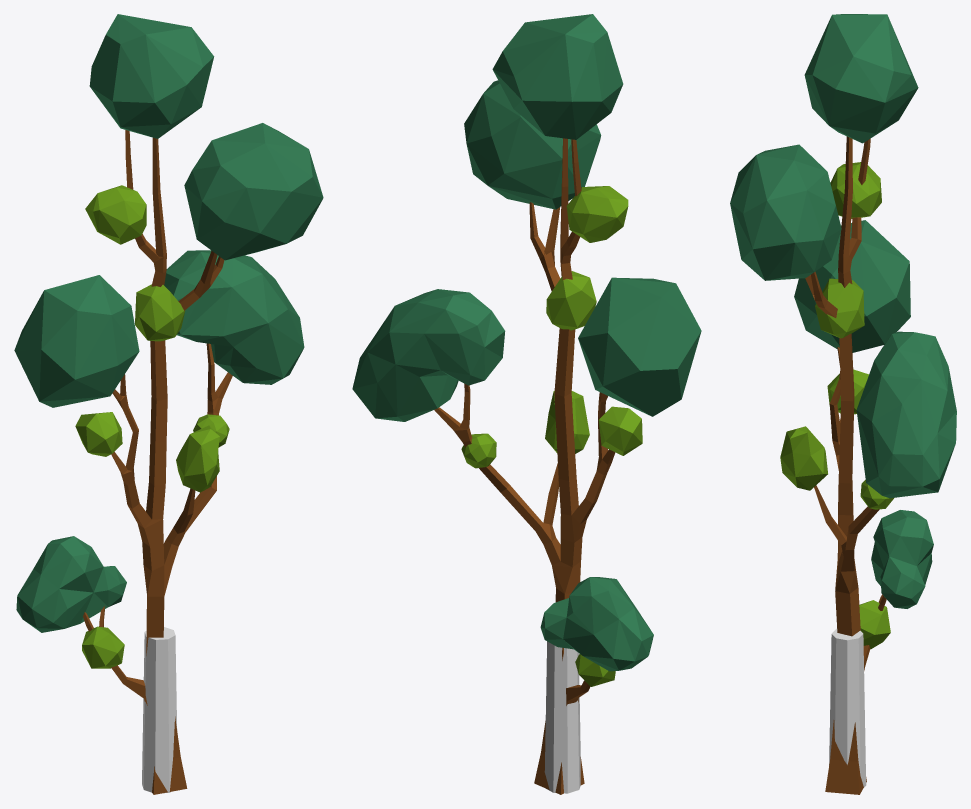
File: floresta_tree_with_mistletoe.glb
3 views of the same model, side by side, from view 1: azimuth 30°, elevation 25°; view 2: azimuth 150°, elevation 25°; view 3: azimuth 270°, elevation 25° (orthographic).
Parts seen in each view (by area): view 1: Tree with mistletoe f, Colisao; view 2: Tree with mistletoe f, Colisao; view 3: Tree with mistletoe f, Colisao.
Boxes of the visible parts, <box> form: Tree with mistletoe f: <box>14,14,323,794</box>; Colisao: <box>142,627,177,793</box>; Tree with mistletoe f: <box>352,14,701,794</box>; Colisao: <box>544,641,580,793</box>; Tree with mistletoe f: <box>730,14,956,794</box>; Colisao: <box>829,628,866,787</box>.
Size of the model in its own units: 8.43 by 20.75 by 5.61.
